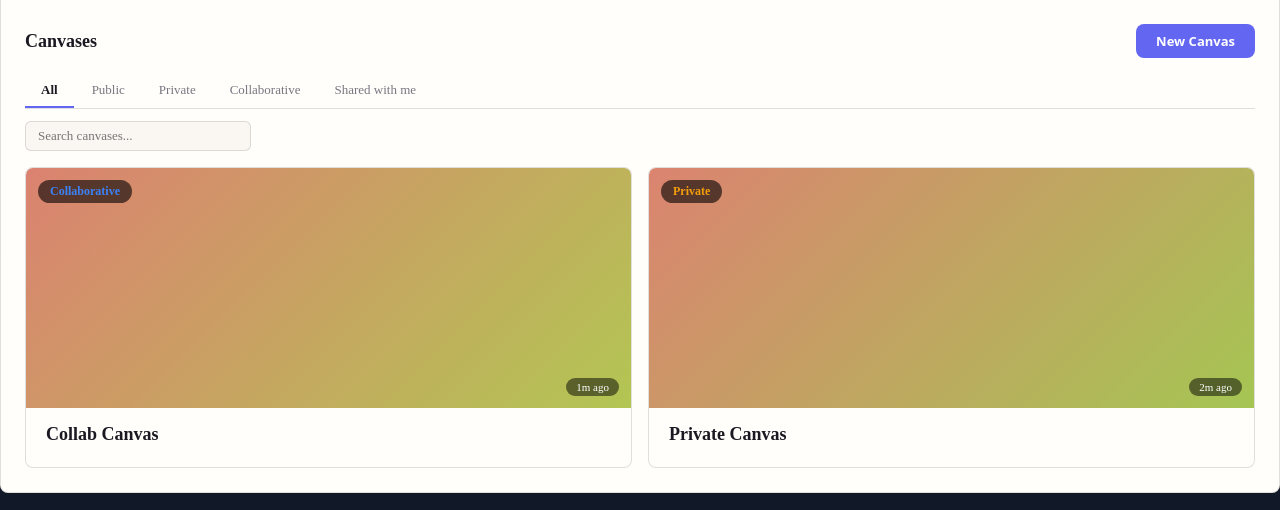
Test: CanvasGallerySection › filter tabs › Collaborative filter shows collaborative canvases
Click the button with test id "filter-collaborative".
click(265, 91)  # box [214,74,316,108]
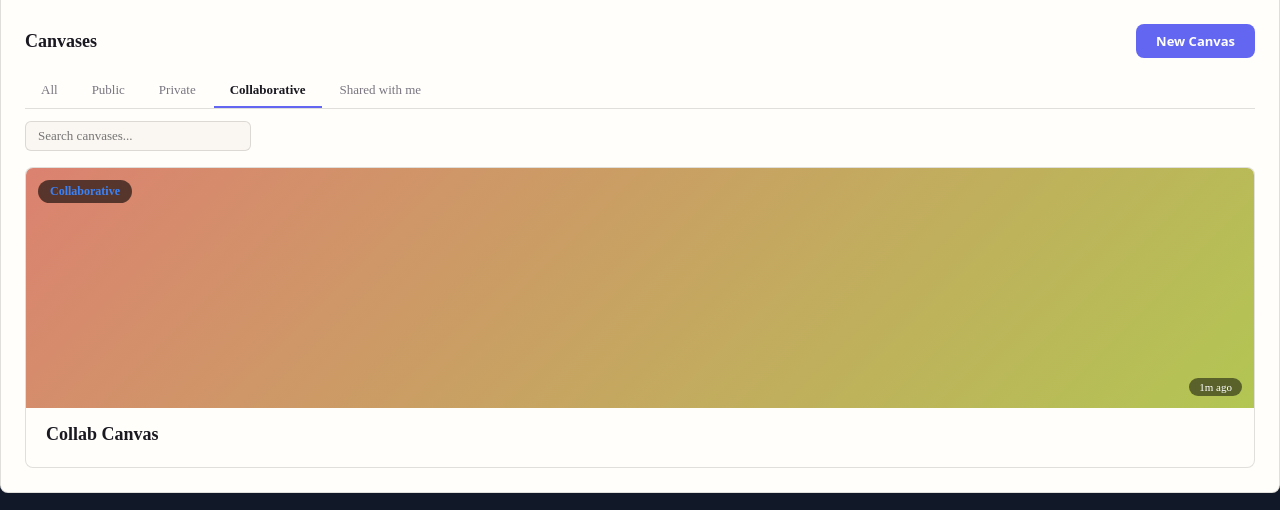
Expected: the text "Collab Canvas" is shown, [46,424,158,444]
Now the link "Private Canvas" is gone
